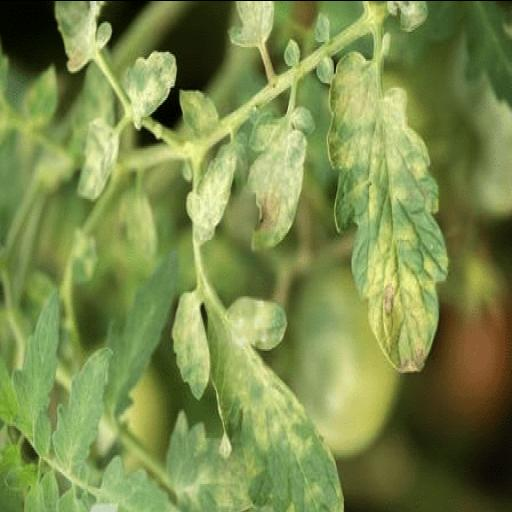Leaf Mold: (322, 50, 451, 376), (170, 287, 351, 512), (246, 98, 319, 256), (123, 43, 180, 129)
